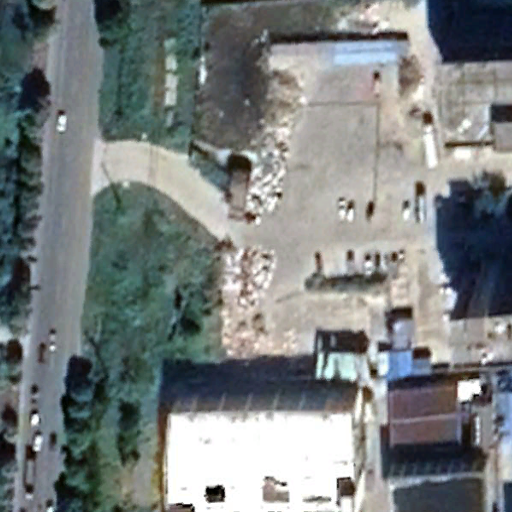msw: (248, 66, 305, 221), (223, 249, 274, 364)
